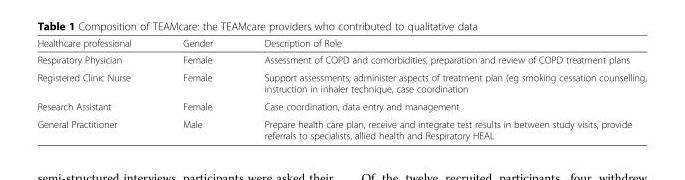table: (36, 37, 646, 140)
table column: (237, 37, 646, 140), (36, 37, 156, 140), (156, 37, 237, 140)
table column header: (36, 37, 646, 51)
table row: (36, 68, 646, 97), (36, 115, 646, 140), (36, 97, 646, 115), (36, 51, 646, 68), (36, 37, 646, 51)
